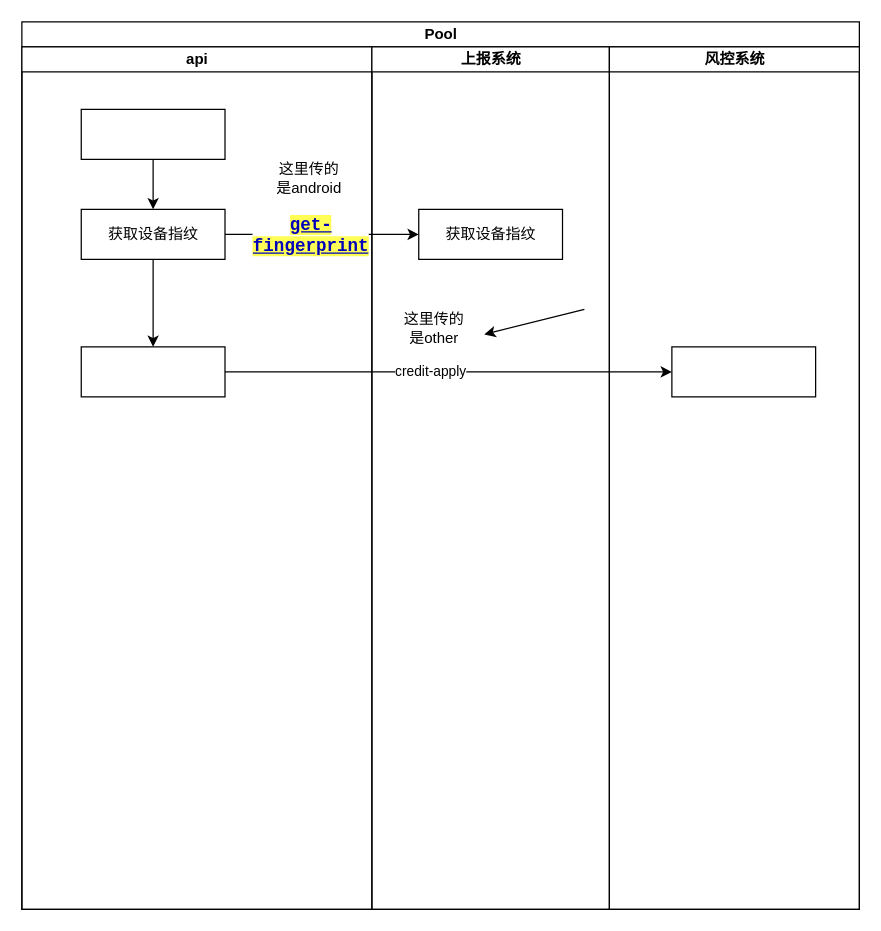
The diagram is 881 pixels wide and 931 high, and some of its shapes have lost their labels. Each missing label, with the centre of its shape:
"发起授信激活" belongs at pixel 152 371.
"授信申请接口" belongs at pixel 743 371.
"进件接口" belongs at pixel 152 133.
